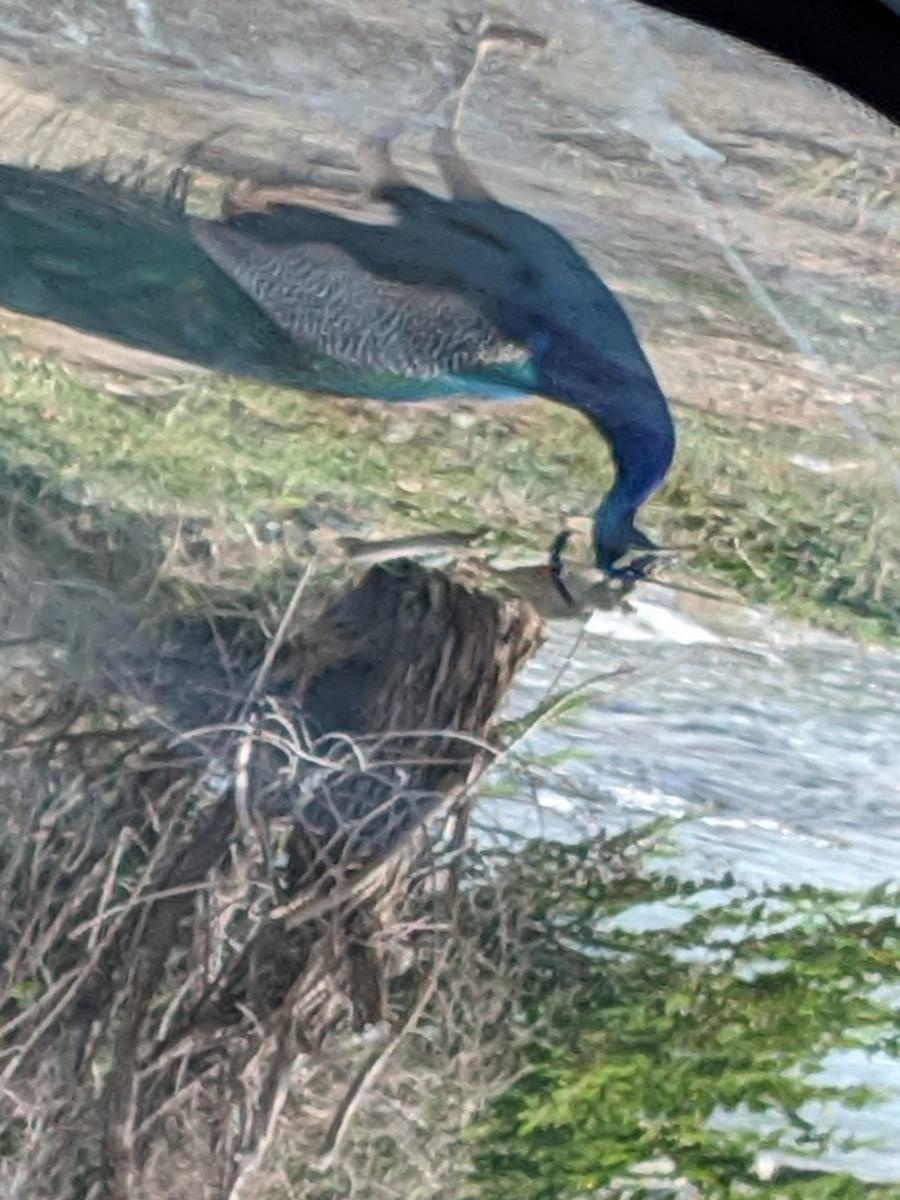peacock: (1, 43, 706, 598)
